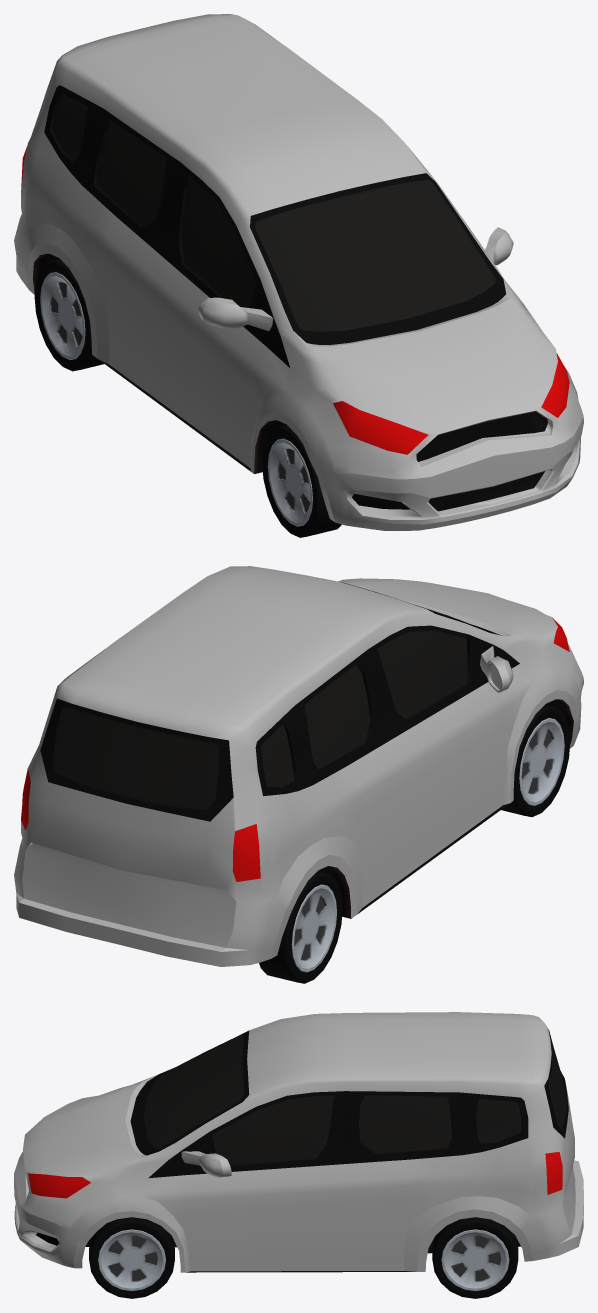
File: connec.fbx
3 renders of one model, top to bottom at view 1: azimuth 30°, elevation 25°; view 2: azimuth 150°, elevation 25°; view 3: azimuth 270°, elevation 25°, orthographic. The views are drawn at different scales.
Parts seen in each view (by area): view 1: connbodyz, pCylinder3z, pCylinder4z; view 2: connbodyz, pCylinder4z, pCylinder3z; view 3: connbodyz, pCylinder1z, pCylinder2z.
Part boxes in pixels (x1,y1,x2,y2): connbodyz: (14, 14, 583, 530); pCylinder3z: (262, 425, 341, 537); pCylinder4z: (34, 258, 103, 371); connbodyz: (14, 566, 583, 966); pCylinder4z: (259, 871, 342, 983); pCylinder3z: (501, 704, 570, 817); connbodyz: (14, 1012, 583, 1272); pCylinder1z: (432, 1217, 518, 1298); pCylinder2z: (89, 1217, 174, 1298).
Size of the model in its own units: 21.85 by 19.11 by 46.36.
